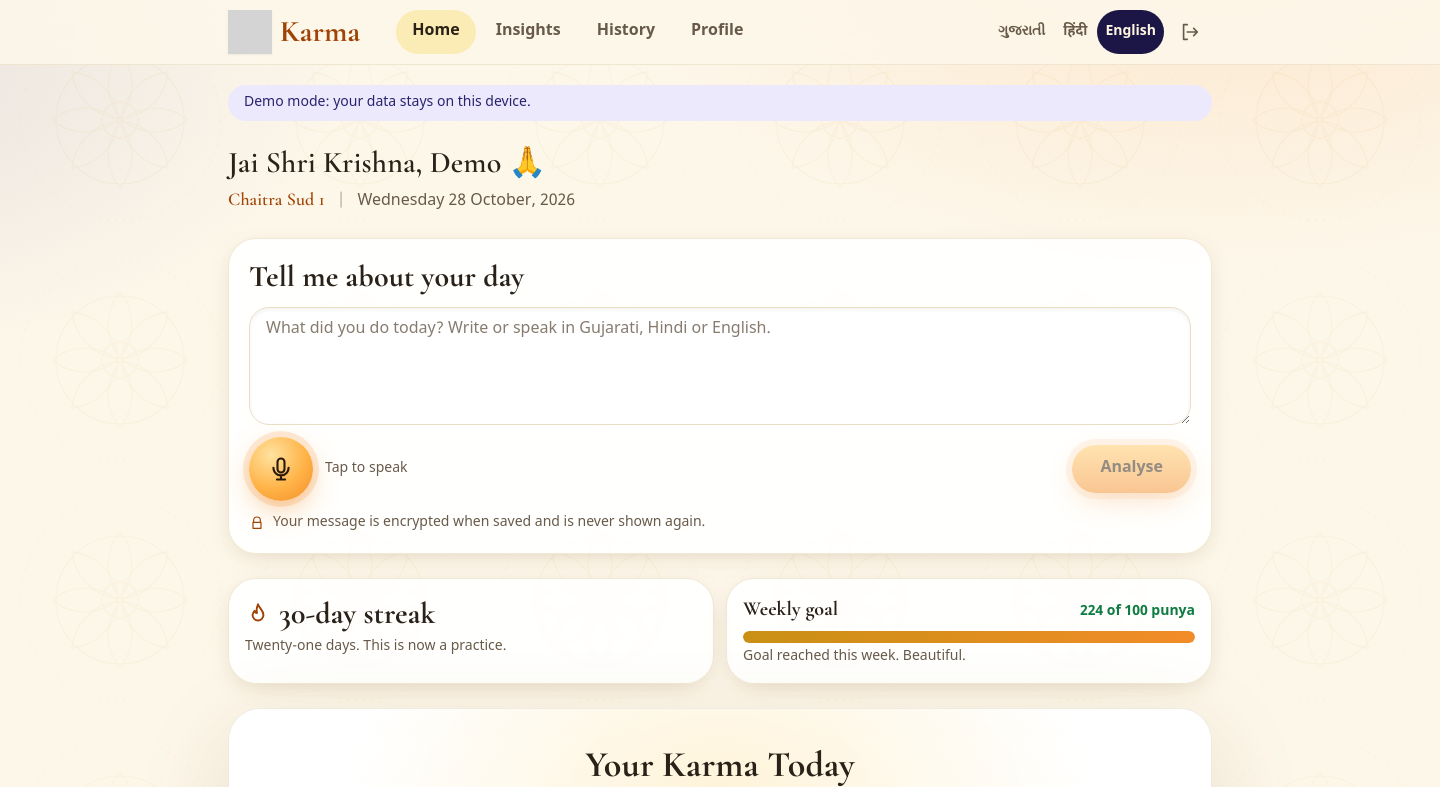
Test: Karma app (demo mode) › when nothing is scored, says so and shows what the user can enter
This screenshot has width=1440, height=787.
Type "I went to the office and had lunch" into the text box named "Tell me about your day" at x=720, y=366, box left=249, top=307, right=1191, bottom=425
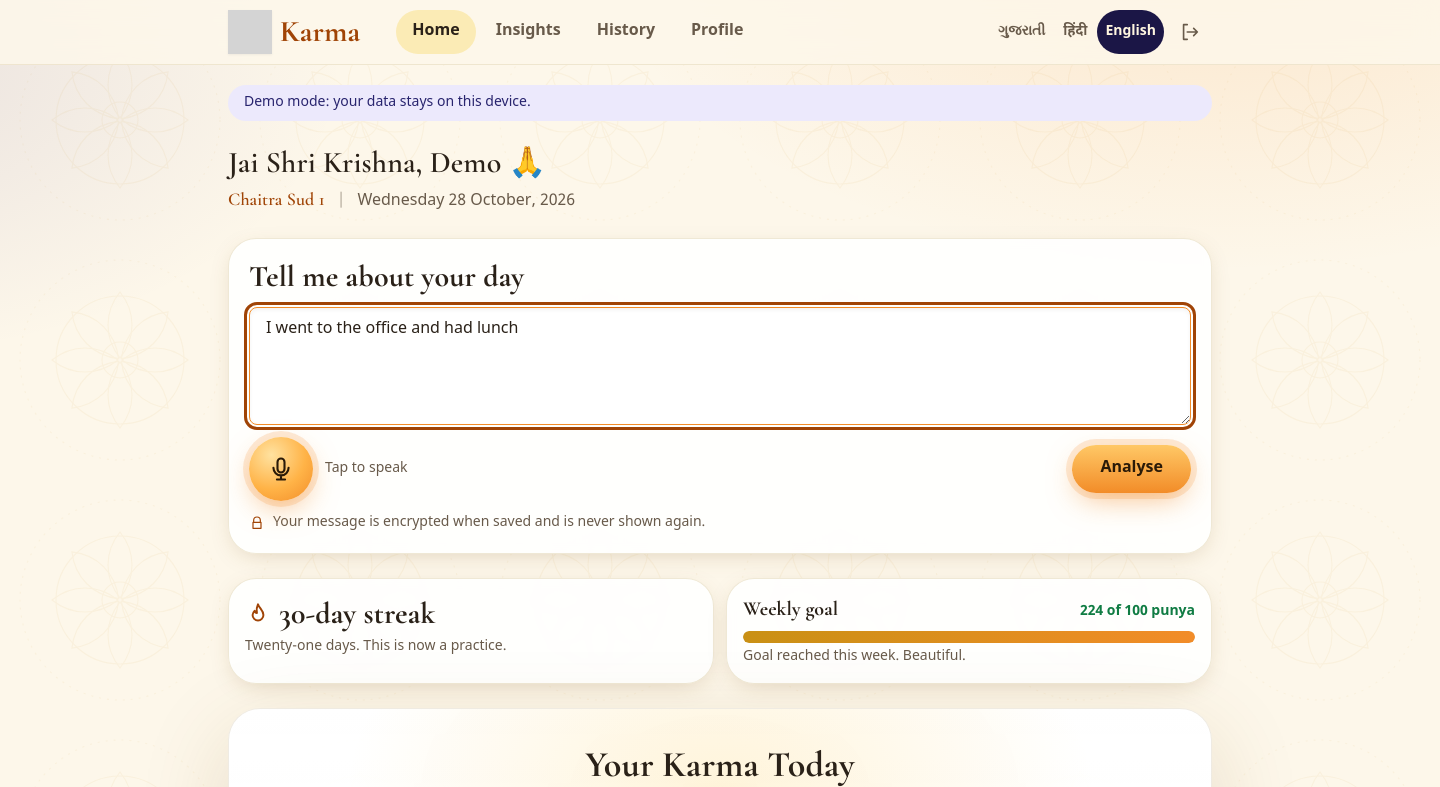
Click the button "Analyse" at x=1132, y=469, box left=1072, top=445, right=1191, bottom=493
(page scrolled)
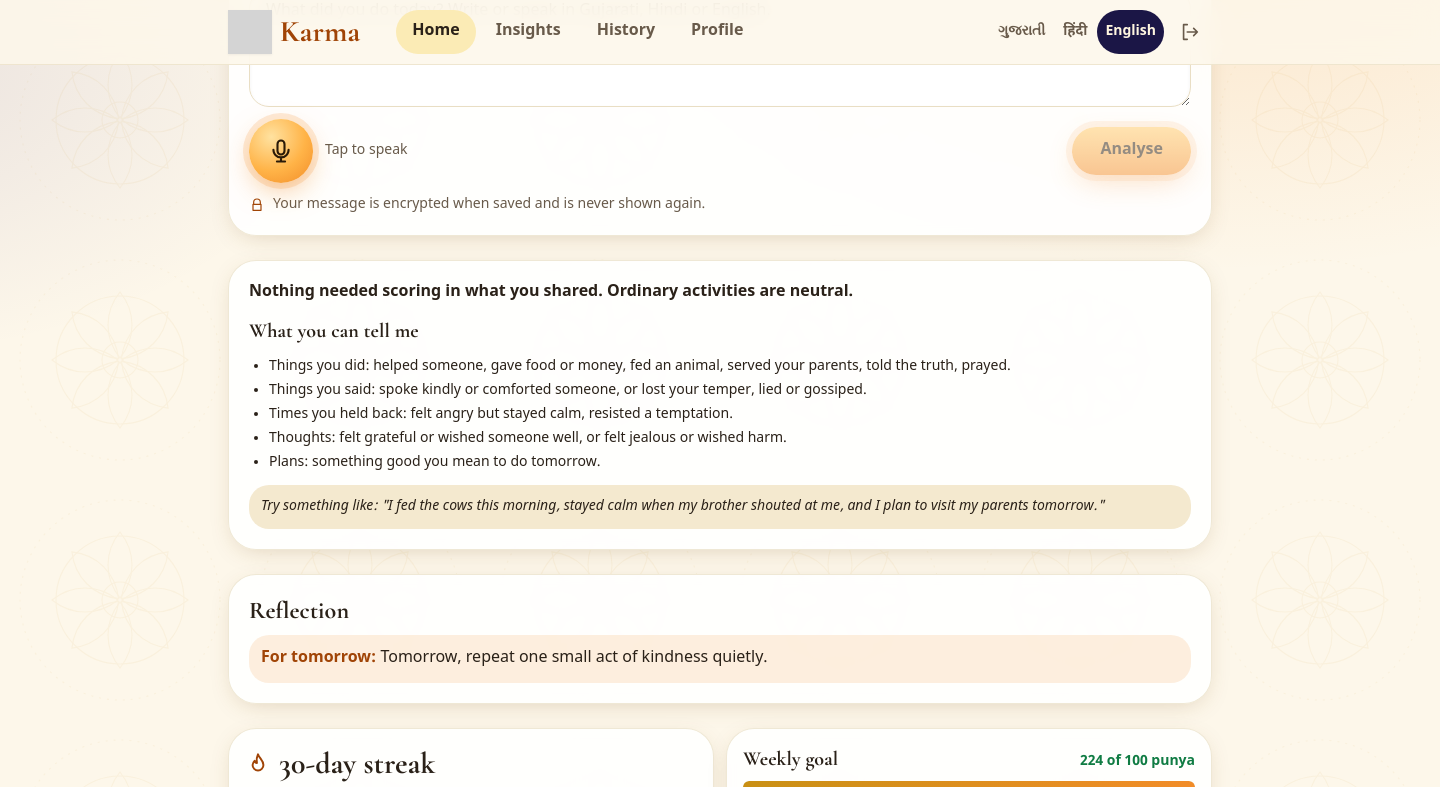
Check: the element with test id "nothing-scored" shows "Nothing needed scoring in what you shared", box left=249, top=282, right=853, bottom=303
Check: the heading "What you can tell me" is shown, box left=249, top=319, right=419, bottom=343
Check: the element with test id "nothing-scored" shows "Try something like", box left=261, top=497, right=1104, bottom=516
